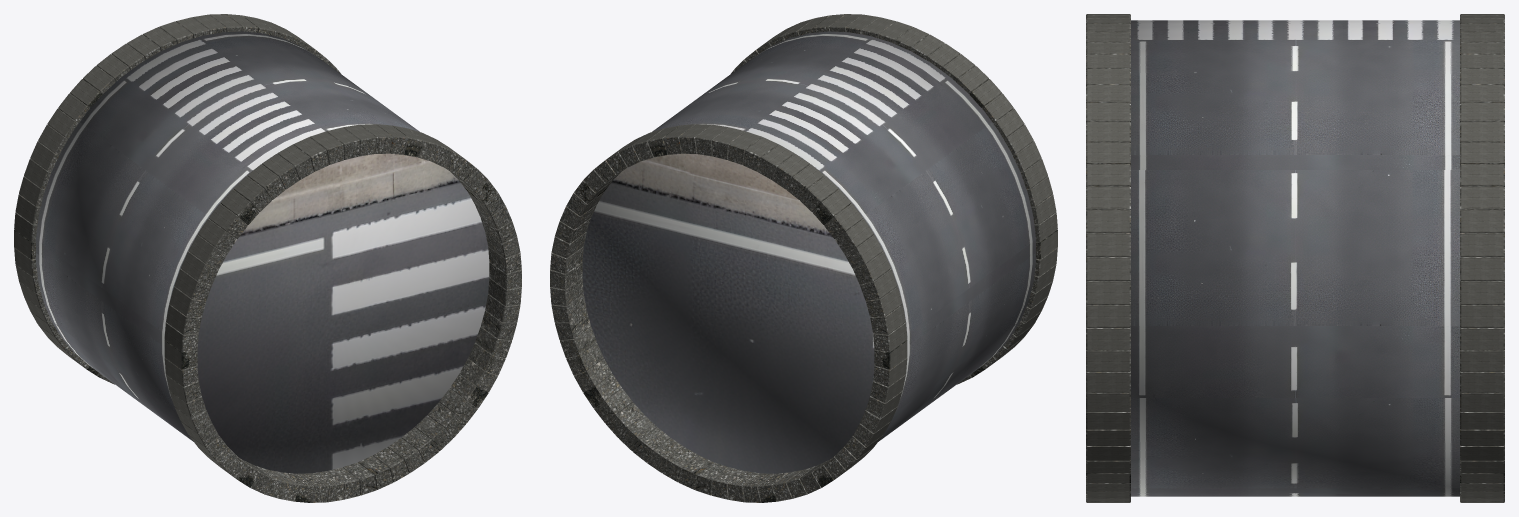
File: videogame_cylinder_road.glb
3 renders of one model, left to right at view 1: azimuth 30°, elevation 25°; view 2: azimuth 150°, elevation 25°; view 3: azimuth 270°, elevation 25°, orthographic. The views are drawn at different scales.
Parts seen in each view (by area): view 1: Cylinder, Cube; view 2: Cylinder, Cube; view 3: Cylinder, Cube.
Boxes of the visible parts, box(x1,y1,x2,y2) form: Cylinder: box(35, 31, 489, 473); Cube: box(14, 14, 521, 502); Cylinder: box(582, 31, 1036, 473); Cube: box(550, 14, 1057, 502); Cylinder: box(1130, 20, 1460, 496); Cube: box(1086, 14, 1504, 502).
Size of the model in its own units: 14.6 by 14.6 by 12.52.
Materials: 2 (2 with a texture image).
